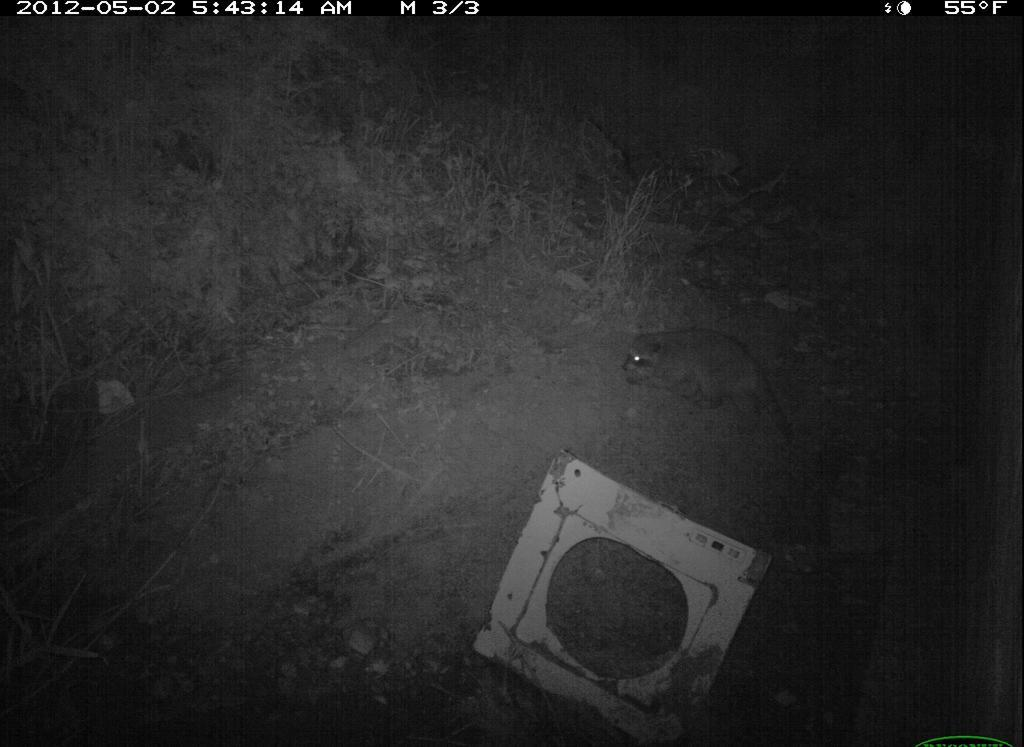raccoon: (625, 321, 795, 456)
